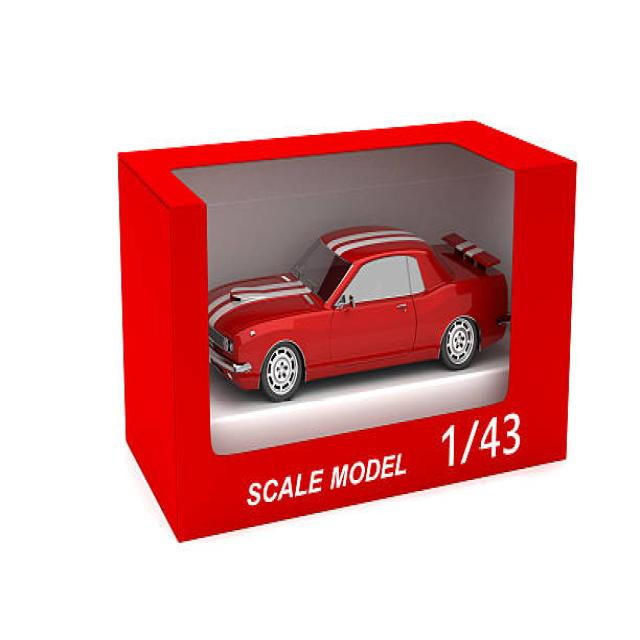Car: (206, 224, 509, 402)
